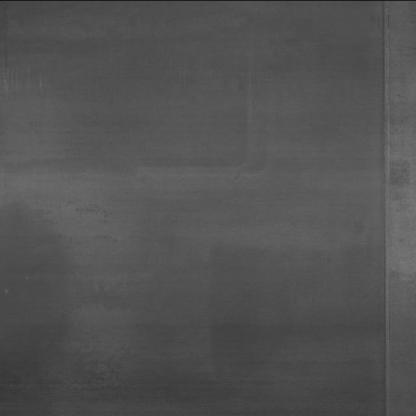welding_line: (375, 2, 398, 416)
